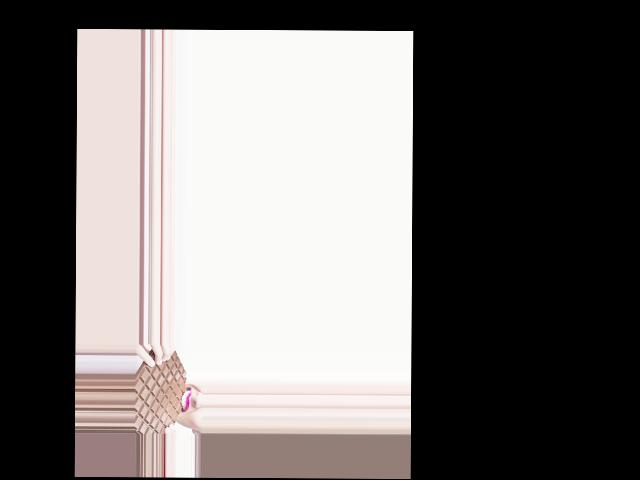chocolate: (134, 343, 188, 433)
